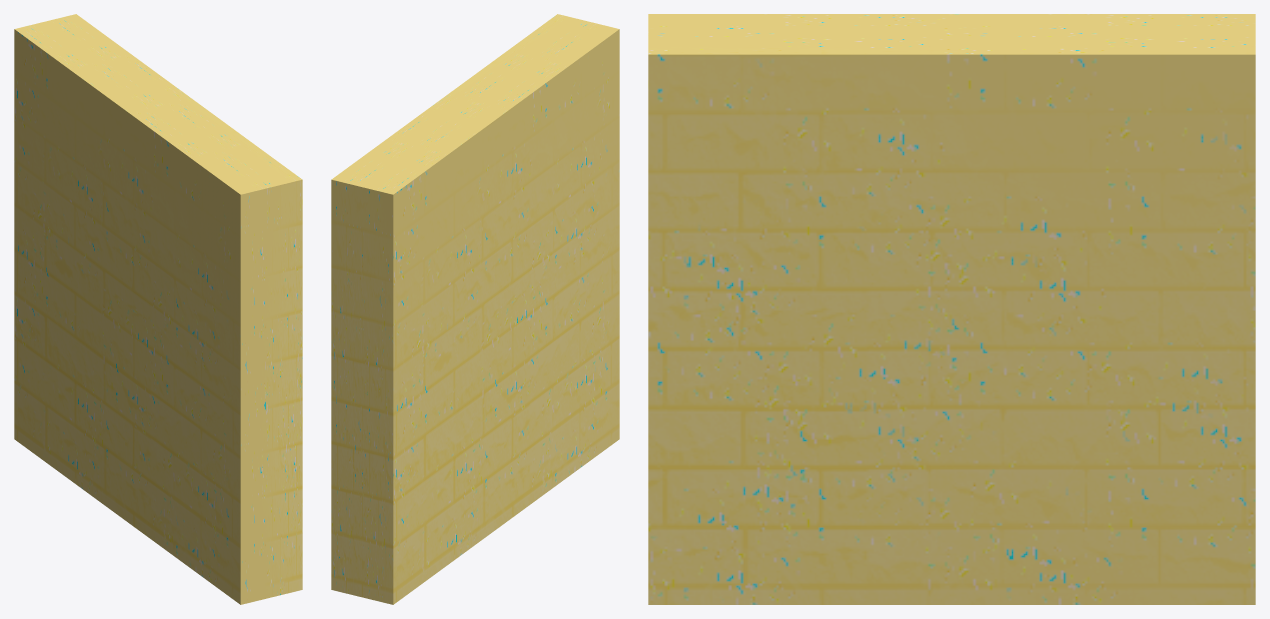
The model's file is icduvar16.fbx.
The picture shows the model from 3 angles, left to right: view 1: azimuth 30°, elevation 25°; view 2: azimuth 150°, elevation 25°; view 3: azimuth 270°, elevation 25°; orthographic projection. The views are drawn at different scales.
Visible parts, largest first — view 1: Cube.005; view 2: Cube.005; view 3: Cube.005.
Boxes of the visible parts, x1=… form: Cube.005: x1=14, y1=14, x2=302, y2=604; Cube.005: x1=331, y1=14, x2=619, y2=604; Cube.005: x1=648, y1=14, x2=1255, y2=604.
Bounding box in the file's own units: 63.17 × 400 × 400.
1 material, 1 textured.
